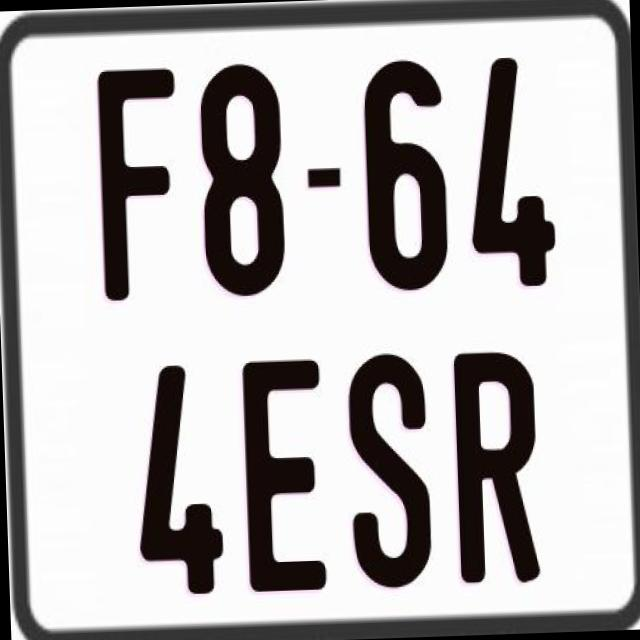4: (130, 364, 228, 600), (462, 56, 558, 289)
6: (362, 60, 452, 292)
8: (196, 62, 291, 300)
E: (242, 354, 330, 594)
F: (94, 62, 184, 297)
R: (449, 350, 542, 592)
S: (343, 350, 431, 590)
